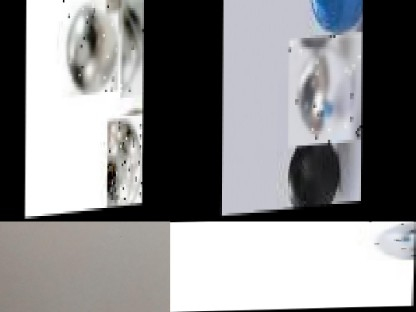ironball: (288, 33, 362, 147), (62, 0, 118, 96), (106, 114, 142, 210), (120, 0, 143, 98), (367, 221, 415, 261)
